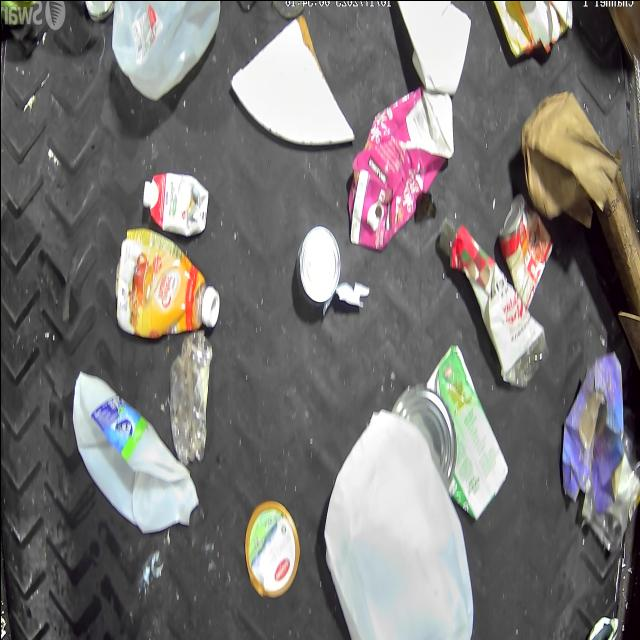can: (389, 382, 455, 494), (495, 190, 552, 302), (296, 224, 340, 304), (584, 616, 618, 640)
milk_jug: (322, 411, 472, 640), (67, 370, 195, 534), (109, 0, 220, 99)
non_white_jug: (347, 87, 452, 250)
plastic_bottle: (165, 329, 212, 463)
